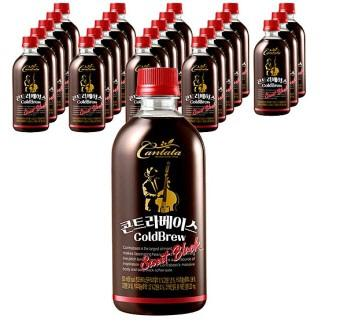contrabass_sweetblack: (94, 62, 233, 314), (9, 37, 54, 136), (68, 35, 105, 138)
